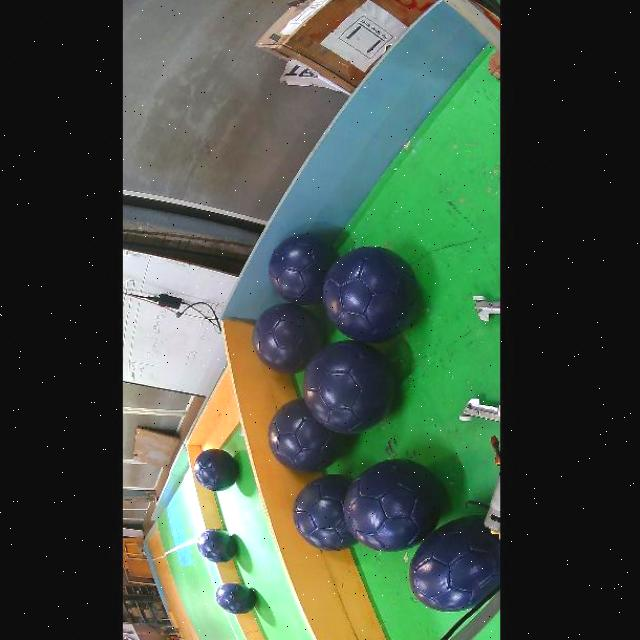B: (321, 247, 418, 343), (342, 459, 442, 551), (409, 516, 500, 611), (302, 341, 395, 433), (267, 399, 346, 472), (250, 303, 323, 374), (292, 475, 357, 551), (267, 234, 336, 305), (193, 449, 239, 492), (197, 529, 236, 563), (215, 583, 256, 614)
